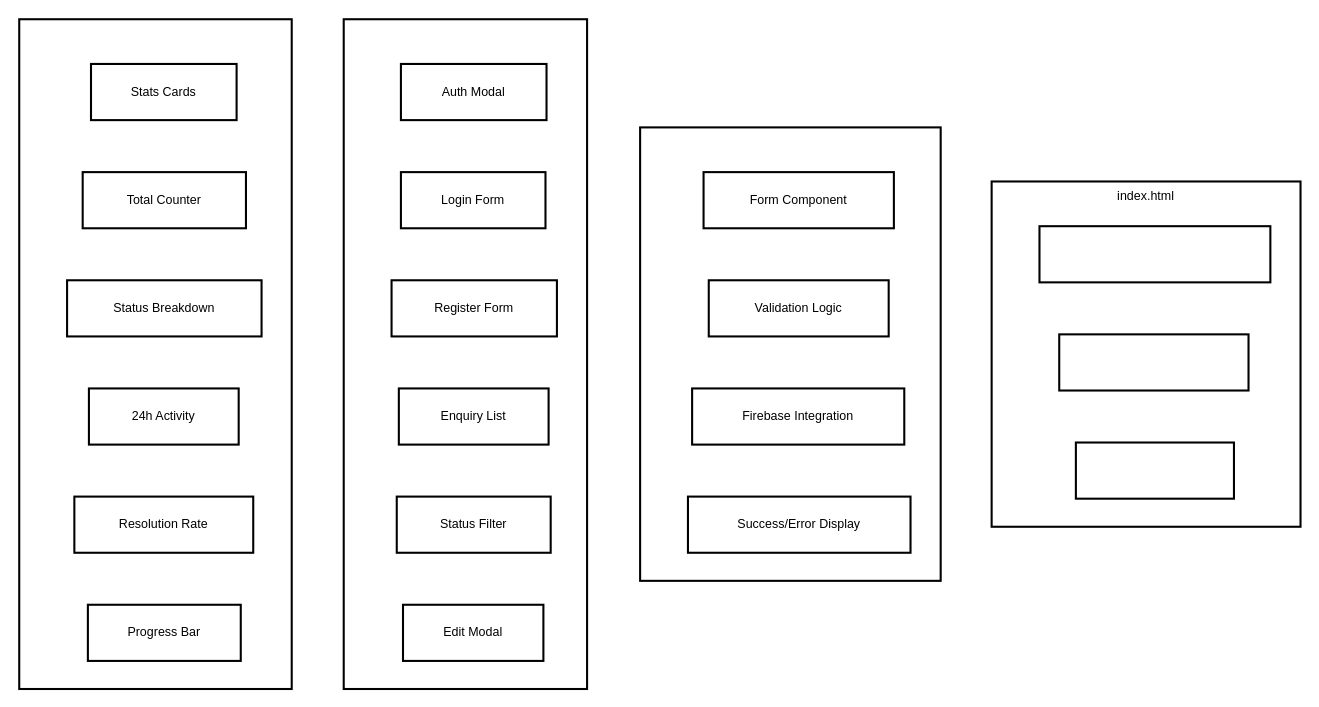
The diagram is 1319 pixels wide and 707 high, and some of its shapes have lost their labels. The box of each missing label's shape, as (x1, y1, x2, y2) in pixels:
insights.html: (18, 18, 292, 690)
Module Links: (1074, 441, 1234, 499)
Navigation Component: (1038, 225, 1271, 283)
public.html: (639, 126, 941, 581)
staff.html: (342, 18, 588, 690)
Welcome Section: (1058, 333, 1249, 391)
